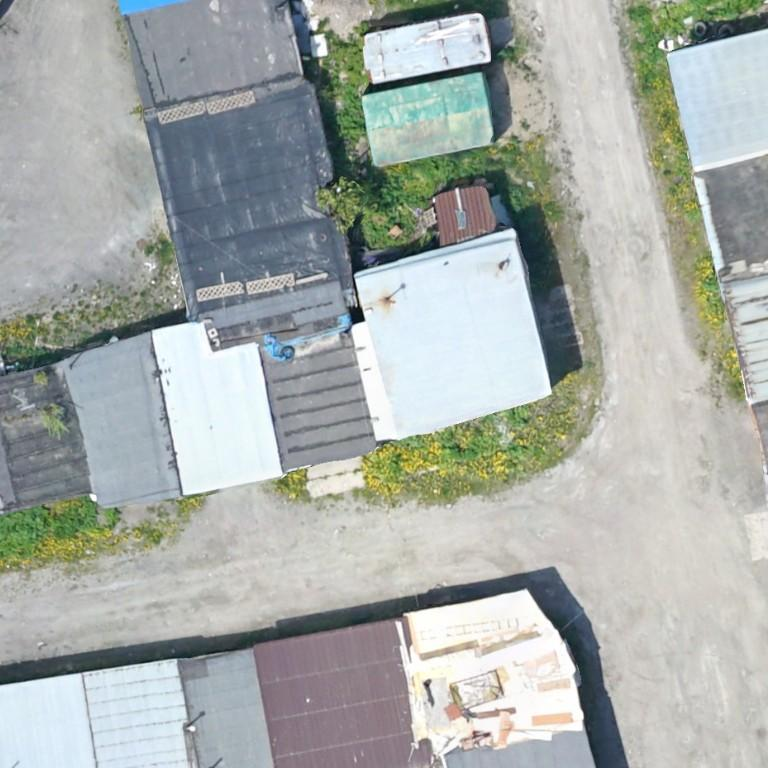hogweed: (0, 498, 96, 556), (326, 86, 365, 141)
